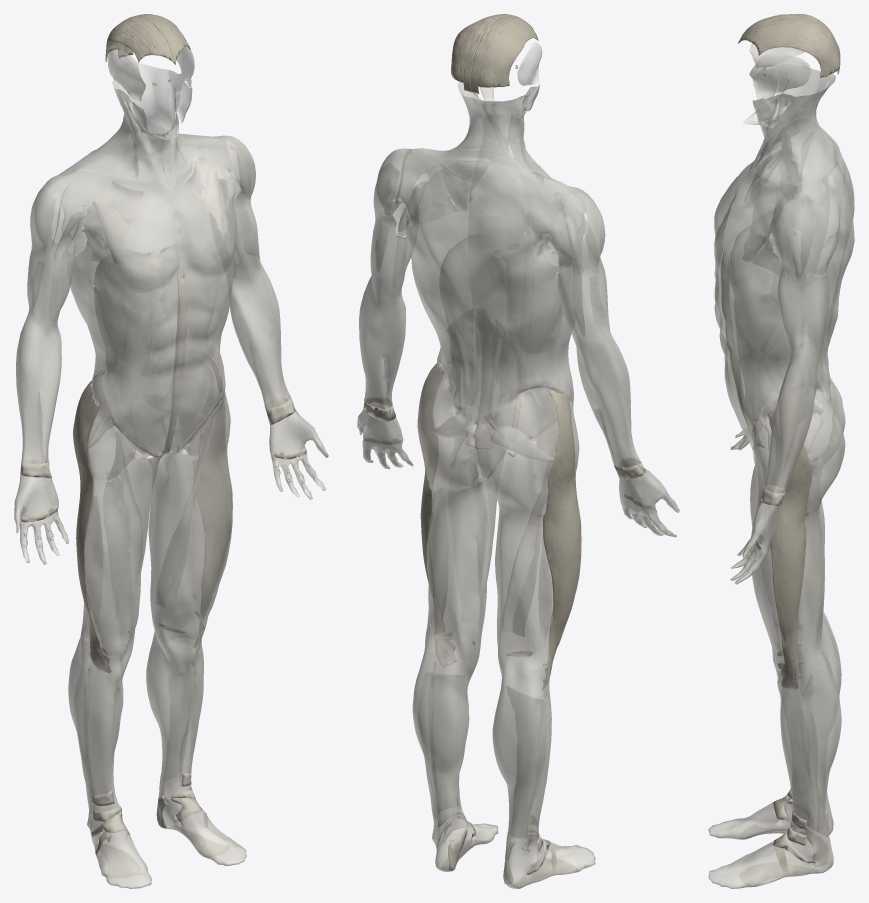
File: adult_male.fascia.LOD1.glb
3 renders of one model, left to right at view 1: azimuth 30°, elevation 25°; view 2: azimuth 150°, elevation 25°; view 3: azimuth 270°, elevation 25°, orthographic. The views are drawn at different scales.
Parts seen in each view (by area): view 1: ADULT.MALE.FASCIA.INVESTING_ABDOMINAL_FASCIA.R, ADULT.MALE.FASCIA.FASCIA_LATA.L, ADULT.MALE.FASCIA.INVESTING_ABDOMINAL_FASCIA.L, ADULT.MALE.FASCIA.FASCIA_LATA.R, ADULT.MALE.FASCIA.TRANSVERSALIS_FASCIA, ADULT.MALE.FASCIA.CRURAL_FASCIA.L, ADULT.MALE.FASCIA.CRURAL_FASCIA.R, ADULT.MALE.FASCIA.PECTORAL_FASCIA.R, ADULT.MALE.FASCIA.DIAPHRAGMATIC_FASCIA, ADULT.MALE.FASCIA.PECTORAL_FASCIA.L, ADULT.MALE.FASCIA.ILIOTIBIAL_TRACT.L, ADULT.MALE.FASCIA.ANTEBRACHIAL_FASCIA.R (+29 smaller); view 2: ADULT.MALE.FASCIA.INVESTING_ABDOMINAL_FASCIA.R, ADULT.MALE.FASCIA.FASCIA_LATA.R, ADULT.MALE.FASCIA.FASCIA_LATA.L, ADULT.MALE.FASCIA.CRURAL_FASCIA.R, ADULT.MALE.FASCIA.INVESTING_ABDOMINAL_FASCIA.L, ADULT.MALE.FASCIA.DIAPHRAGMATIC_FASCIA, ADULT.MALE.FASCIA.CRURAL_FASCIA.L, ADULT.MALE.FASCIA.SUPERFICIAL_INVESTING_CERVICAL_FASCIA.R, ADULT.MALE.FASCIA.ILIOTIBIAL_TRACT.R, ADULT.MALE.FASCIA.SUPERFICIAL_INVESTING_CERVICAL_FASCIA.L, ADULT.MALE.FASCIA.MEDIAL_FEMORAL_INTERMUSCULAR_SEPTUM.L, ADULT.MALE.FASCIA.ANTEBRACHIAL_FASCIA.R (+32 smaller); view 3: ADULT.MALE.FASCIA.CRURAL_FASCIA.L, ADULT.MALE.FASCIA.INVESTING_ABDOMINAL_FASCIA.L, ADULT.MALE.FASCIA.FASCIA_LATA.L, ADULT.MALE.FASCIA.ILIOTIBIAL_TRACT.L, ADULT.MALE.FASCIA.SUPERFICIAL_INVESTING_CERVICAL_FASCIA.L, ADULT.MALE.FASCIA.INVESTING_ABDOMINAL_FASCIA.R, ADULT.MALE.FASCIA.DELTOID_FASCIA.L, ADULT.MALE.FASCIA.PECTORAL_FASCIA.L, ADULT.MALE.FASCIA.ANTEBRACHIAL_FASCIA.L, ADULT.MALE.FASCIA.DIAPHRAGMATIC_FASCIA, ADULT.MALE.FASCIA.SUPERFICIAL_INVESTING_CERVICAL_FASCIA.R, ADULT.MALE.FASCIA.BRACHIAL_FASCIA.L (+25 smaller).
Boxes of the visible parts, box(x1,y1,x2,y2) form: ADULT.MALE.FASCIA.INVESTING_ABDOMINAL_FASCIA.R: box(57, 165, 184, 456); ADULT.MALE.FASCIA.FASCIA_LATA.L: box(140, 377, 232, 637); ADULT.MALE.FASCIA.INVESTING_ABDOMINAL_FASCIA.L: box(123, 143, 233, 452); ADULT.MALE.FASCIA.FASCIA_LATA.R: box(73, 370, 165, 658); ADULT.MALE.FASCIA.TRANSVERSALIS_FASCIA: box(102, 275, 219, 452); ADULT.MALE.FASCIA.CRURAL_FASCIA.L: box(146, 610, 246, 865); ADULT.MALE.FASCIA.CRURAL_FASCIA.R: box(68, 628, 151, 888); ADULT.MALE.FASCIA.PECTORAL_FASCIA.R: box(78, 178, 182, 294); ADULT.MALE.FASCIA.DIAPHRAGMATIC_FASCIA: box(94, 243, 218, 352); ADULT.MALE.FASCIA.PECTORAL_FASCIA.L: box(168, 158, 237, 274); ADULT.MALE.FASCIA.ILIOTIBIAL_TRACT.L: box(193, 357, 232, 651); ADULT.MALE.FASCIA.ANTEBRACHIAL_FASCIA.R: box(16, 315, 61, 463); ADULT.MALE.FASCIA.INVESTING_ABDOMINAL_FASCIA.R: box(467, 207, 579, 425); ADULT.MALE.FASCIA.FASCIA_LATA.R: box(474, 389, 581, 676); ADULT.MALE.FASCIA.FASCIA_LATA.L: box(417, 363, 506, 656); ADULT.MALE.FASCIA.CRURAL_FASCIA.R: box(492, 657, 595, 888); ADULT.MALE.FASCIA.INVESTING_ABDOMINAL_FASCIA.L: box(401, 177, 529, 424); ADULT.MALE.FASCIA.DIAPHRAGMATIC_FASCIA: box(439, 234, 564, 353); ADULT.MALE.FASCIA.CRURAL_FASCIA.L: box(412, 640, 498, 871); ADULT.MALE.FASCIA.SUPERFICIAL_INVESTING_CERVICAL_FASCIA.R: box(469, 86, 570, 216); ADULT.MALE.FASCIA.ILIOTIBIAL_TRACT.R: box(541, 390, 581, 690); ADULT.MALE.FASCIA.SUPERFICIAL_INVESTING_CERVICAL_FASCIA.L: box(399, 81, 519, 208); ADULT.MALE.FASCIA.MEDIAL_FEMORAL_INTERMUSCULAR_SEPTUM.L: box(448, 424, 489, 625); ADULT.MALE.FASCIA.ANTEBRACHIAL_FASCIA.R: box(575, 329, 640, 467); ADULT.MALE.FASCIA.CRURAL_FASCIA.L: box(708, 645, 841, 888); ADULT.MALE.FASCIA.INVESTING_ABDOMINAL_FASCIA.L: box(714, 186, 854, 447); ADULT.MALE.FASCIA.FASCIA_LATA.L: box(751, 388, 845, 673); ADULT.MALE.FASCIA.ILIOTIBIAL_TRACT.L: box(768, 395, 812, 689); ADULT.MALE.FASCIA.SUPERFICIAL_INVESTING_CERVICAL_FASCIA.L: box(743, 78, 848, 205); ADULT.MALE.FASCIA.INVESTING_ABDOMINAL_FASCIA.R: box(714, 158, 854, 439); ADULT.MALE.FASCIA.DELTOID_FASCIA.L: box(771, 183, 842, 288); ADULT.MALE.FASCIA.PECTORAL_FASCIA.L: box(714, 171, 776, 285); ADULT.MALE.FASCIA.ANTEBRACHIAL_FASCIA.L: box(764, 348, 820, 493); ADULT.MALE.FASCIA.DIAPHRAGMATIC_FASCIA: box(730, 226, 815, 358); ADULT.MALE.FASCIA.SUPERFICIAL_INVESTING_CERVICAL_FASCIA.R: box(743, 64, 848, 179); ADULT.MALE.FASCIA.BRACHIAL_FASCIA.L: box(777, 248, 832, 357).
Size of the model in its own units: 0.6715 by 1.7 by 0.2686.
